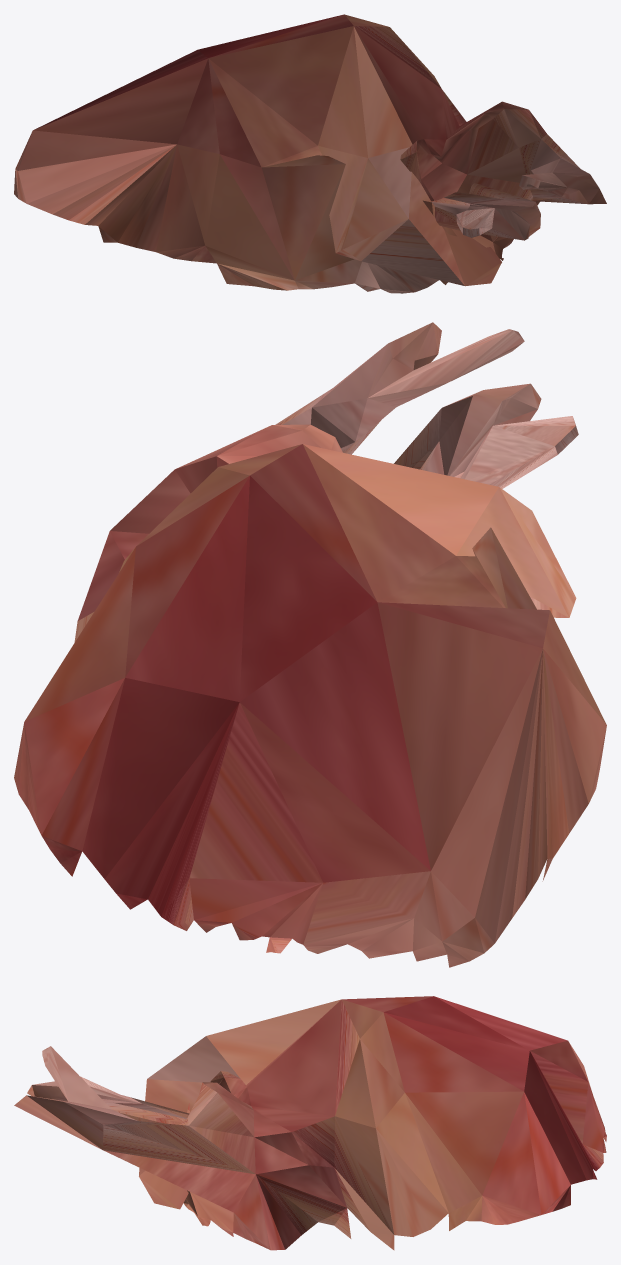
File: herz256.FBX
3 views of the same model, one above another, from view 1: azimuth 30°, elevation 25°; view 2: azimuth 150°, elevation 25°; view 3: azimuth 270°, elevation 25° (orthographic). The views are drawn at different scales.
Visible parts, largest first — view 1: pSphere2; view 2: pSphere2; view 3: pSphere2.
Part boxes in pixels (box(x1,y1,x2,y2)): pSphere2: box(14, 14, 606, 293); pSphere2: box(14, 322, 606, 967); pSphere2: box(14, 996, 606, 1250).
Size of the model in its own units: 1.74 by 0.8942 by 2.5.
Materials: 1 (1 with a texture image).
